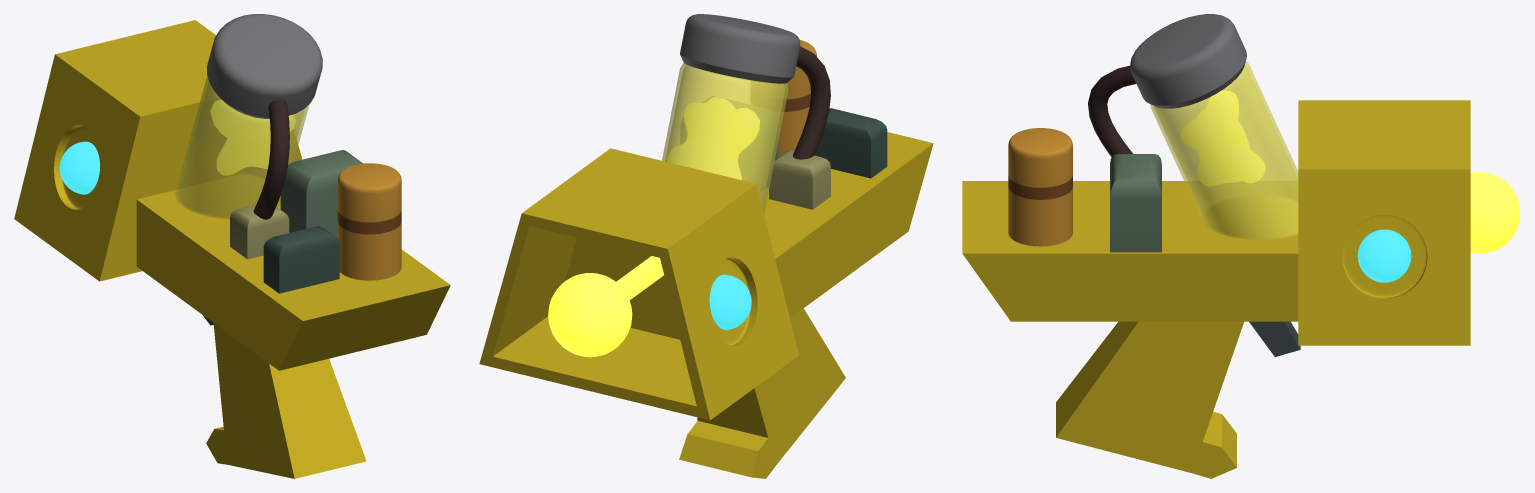
The model's file is pushka3.glb.
3 views of the same model, side by side, from view 1: azimuth 30°, elevation 25°; view 2: azimuth 150°, elevation 25°; view 3: azimuth 270°, elevation 25° (orthographic). The views are drawn at different scales.
Visible parts, largest first — view 1: body, capsule, battery, resistor, converter, sphere, light_bulbs; view 2: body, capsule, trunk, sphere, converter, battery, light_bulbs; view 3: body, capsule, battery, resistor, sphere, trunk, light_bulbs, button.
Part boxes in pixels (x1,y1,x2,y2): body: (14, 20, 450, 478); capsule: (175, 14, 322, 259); battery: (337, 163, 401, 280); resistor: (280, 150, 362, 238); converter: (263, 226, 339, 293); sphere: (210, 100, 295, 175); light_bulbs: (59, 141, 99, 194); body: (479, 132, 933, 478); capsule: (662, 14, 830, 213); trunk: (548, 256, 663, 357); sphere: (667, 97, 759, 179); converter: (814, 108, 887, 178); battery: (778, 40, 816, 157); light_bulbs: (709, 274, 751, 329); body: (962, 100, 1470, 478); capsule: (1088, 14, 1298, 239); battery: (1008, 128, 1072, 246); resistor: (1110, 154, 1161, 252); sphere: (1180, 91, 1265, 186); trunk: (1470, 172, 1520, 253); light_bulbs: (1357, 229, 1411, 282); button: (1249, 321, 1300, 356).
Size of the model in its own units: 1.85 by 3.46 by 4.
